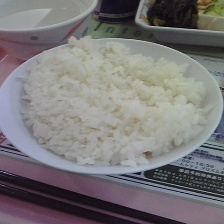rice: (9, 31, 217, 173)
